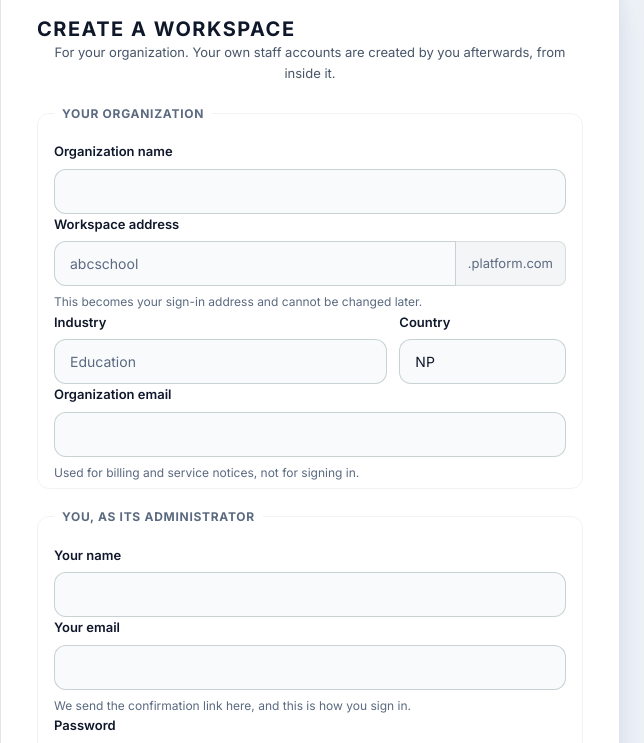
Test: the registration form › shows the password rules the server refused
The image size is (644, 743).
Type "New School" into the field labelled "Organization name". click: (310, 191)
box: [54, 169, 566, 214]
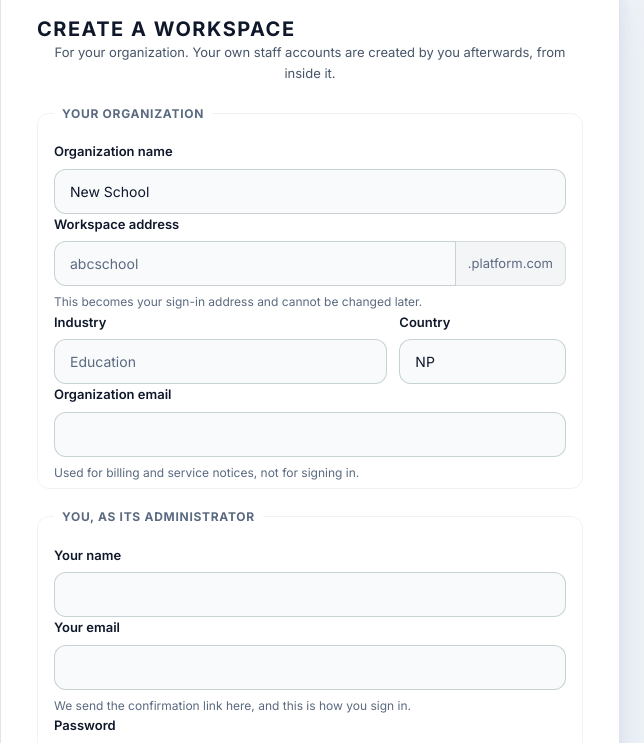
Type "office@newschool.test" into the field labelled "Organization email". click: (310, 435)
box: [54, 412, 566, 457]
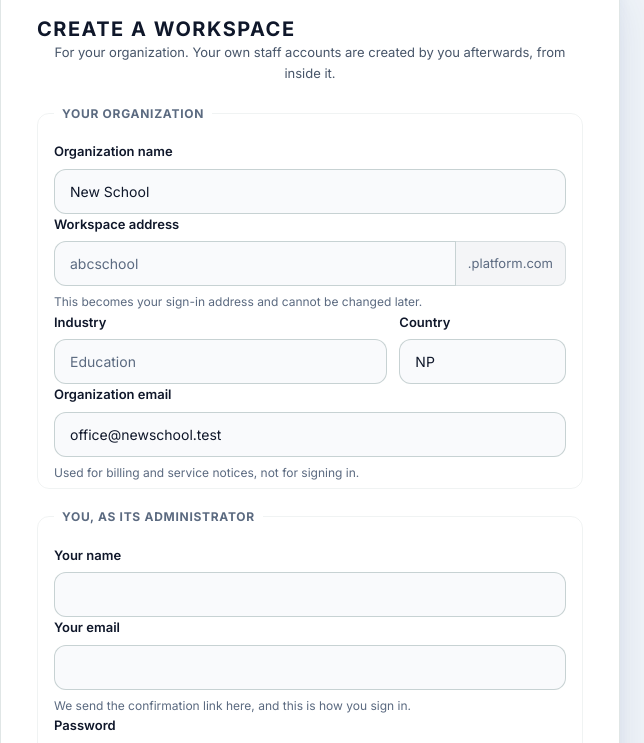
Type "head@newschool.test" into the field labelled "Your email". click: (310, 668)
box: [54, 645, 566, 690]
(page scrolled)
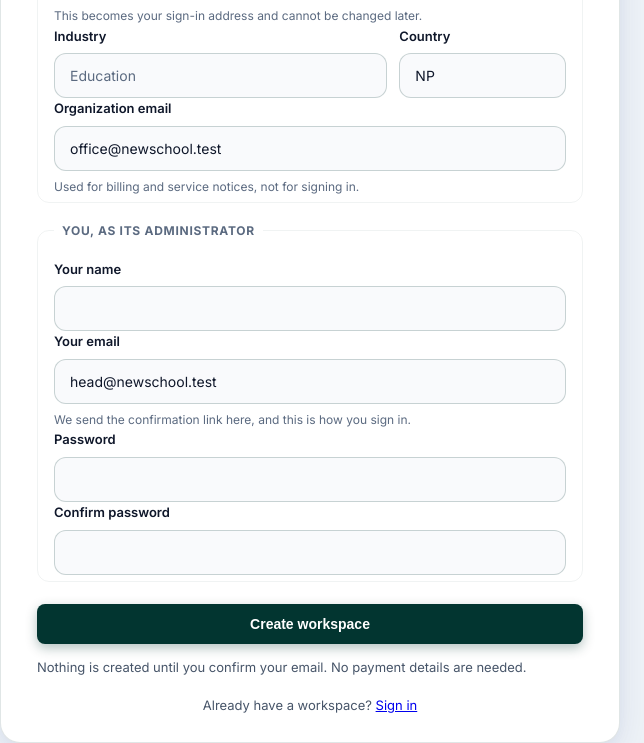
Type "Str0ng-Pass-2026" into the password field labelled "Password". click: (310, 480)
box: [54, 457, 566, 502]
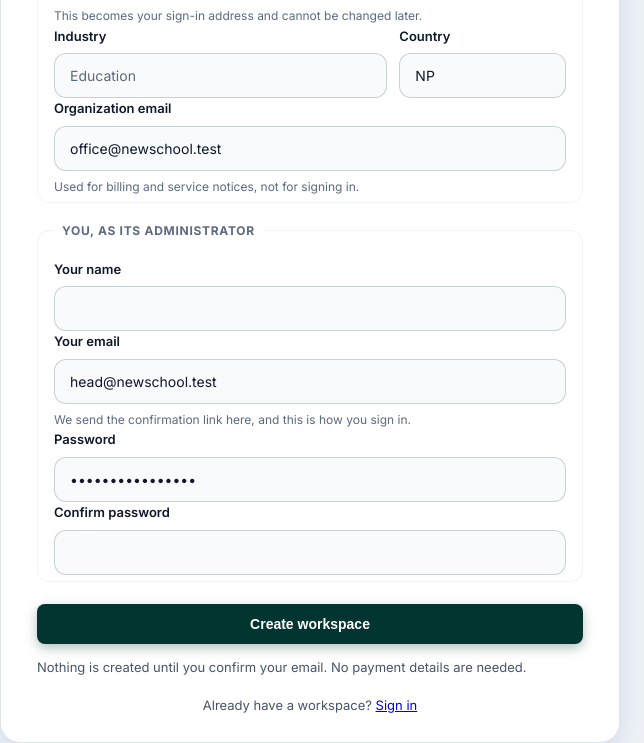
Type "Str0ng-Pass-2026" into the password field labelled "Confirm password". click: (310, 552)
box: [54, 530, 566, 575]
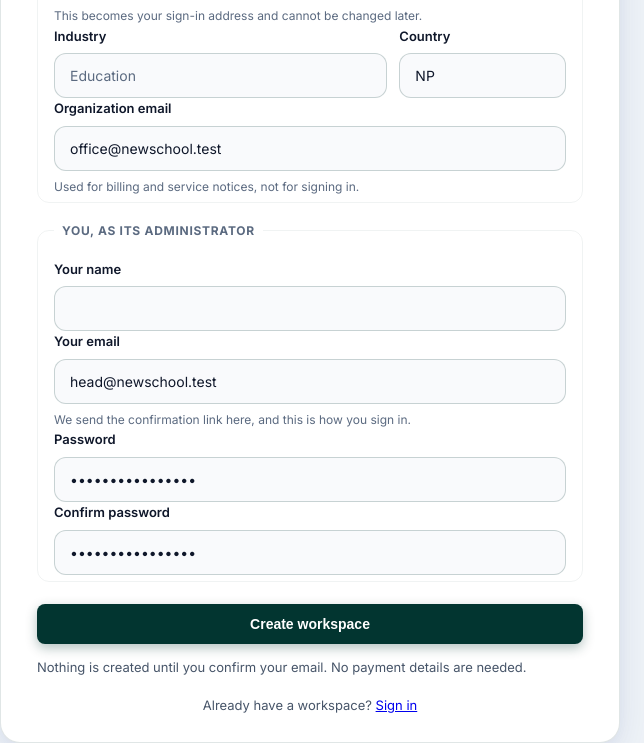
Click the button "Create workspace". click: (310, 624)
box: [37, 604, 583, 644]
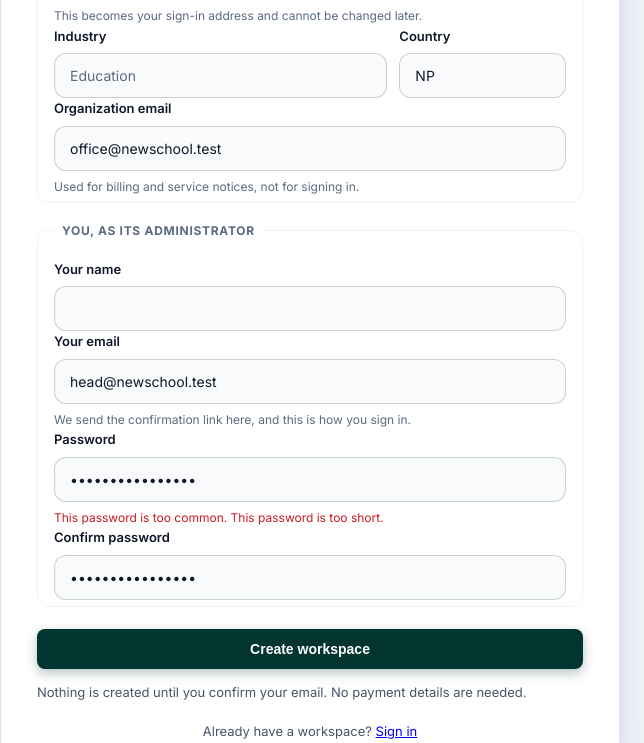
Result: the text "This password is too common. This password is too short." is shown at [54, 510, 384, 525]
